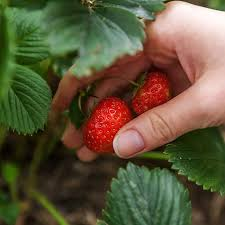ripe: (80, 88, 133, 159), (127, 67, 172, 118)
